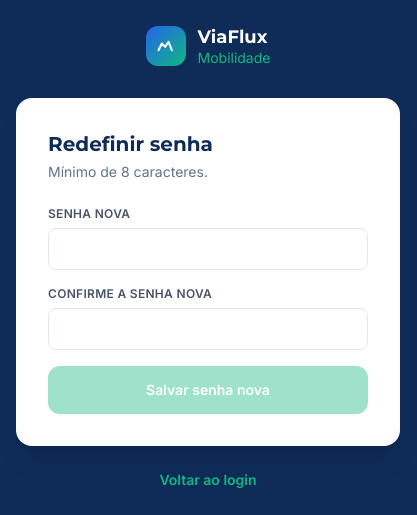
Test: recuperação de senha › confere a senha nova antes de enviar e confirma a troca
Type "senha-nova-2" into the password field labelled "Senha nova" at (208, 249), box [48,228,368,270]
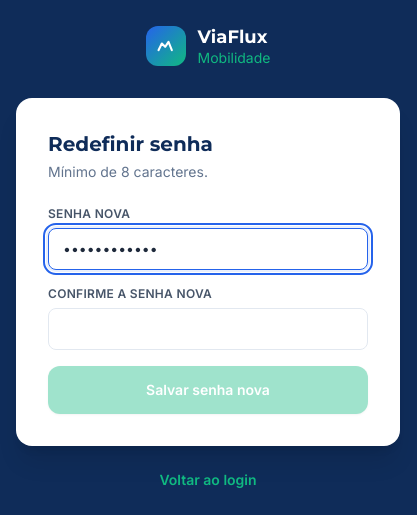
Type "senha-diferente" into the password field labelled "Confirme a senha nova" at (208, 329), box [48,308,368,350]
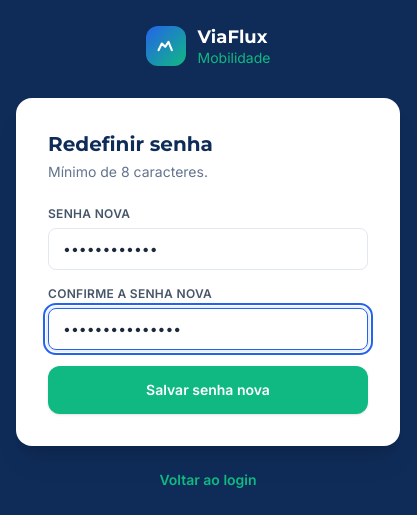
Click the button "Salvar senha nova" at (208, 390), box [48,366,368,414]
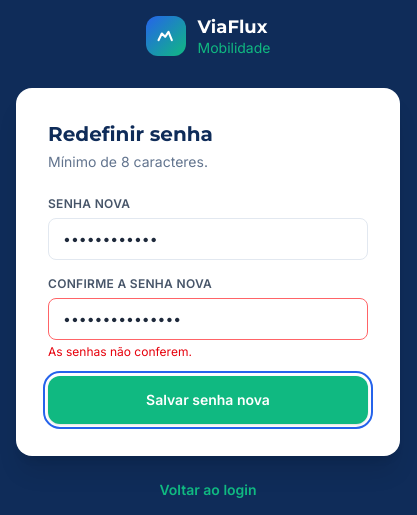
Expected: the text "As senhas não conferem." is shown, [48,344,192,359]
Type "senha-nova-2" into the password field labelled "Confirme a senha nova" at (208, 319), box [48,298,368,340]
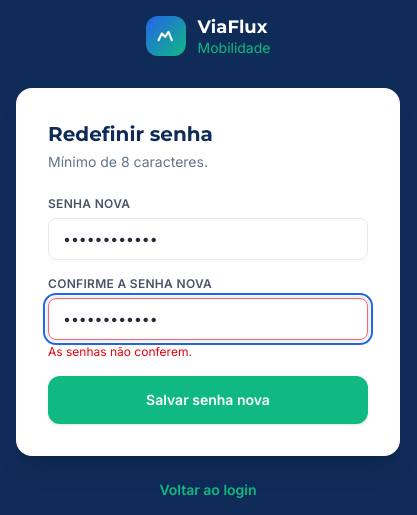
Click the button "Salvar senha nova" at (208, 400), box [48,376,368,424]
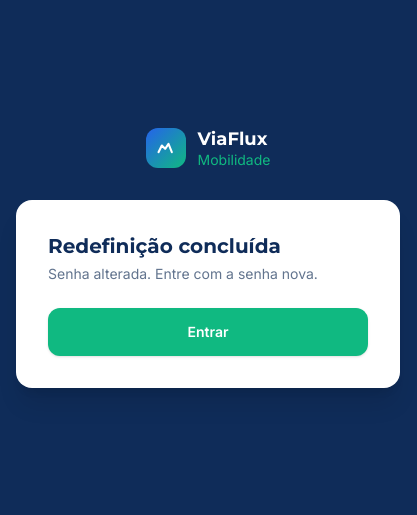
Expected: the text "Senha alterada. Entre com a senha nova." is shown, [48,265,318,282]
